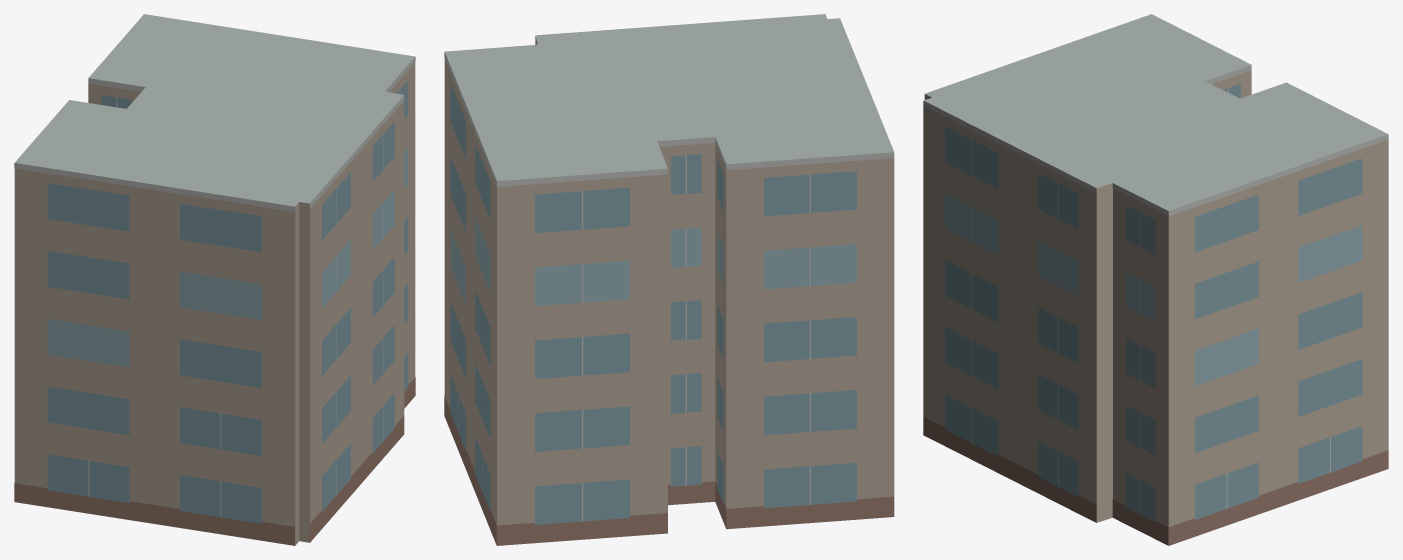
File: survey-upis-32971792.glb
3 renders of one model, left to right at view 1: azimuth 30°, elevation 25°; view 2: azimuth 150°, elevation 25°; view 3: azimuth 270°, elevation 25°, orthographic. The views are drawn at different scales.
Visible parts, largest first — view 1: survey-upis-32971792.tmp; view 2: survey-upis-32971792.tmp; view 3: survey-upis-32971792.tmp.
Boxes of the visible parts, x1,y1,x2,y2 form: survey-upis-32971792.tmp: (14,14,415,545); survey-upis-32971792.tmp: (444,14,894,545); survey-upis-32971792.tmp: (923,14,1388,545).
Bounding box in the file's own units: 19.34 × 15.3 × 19.27.
